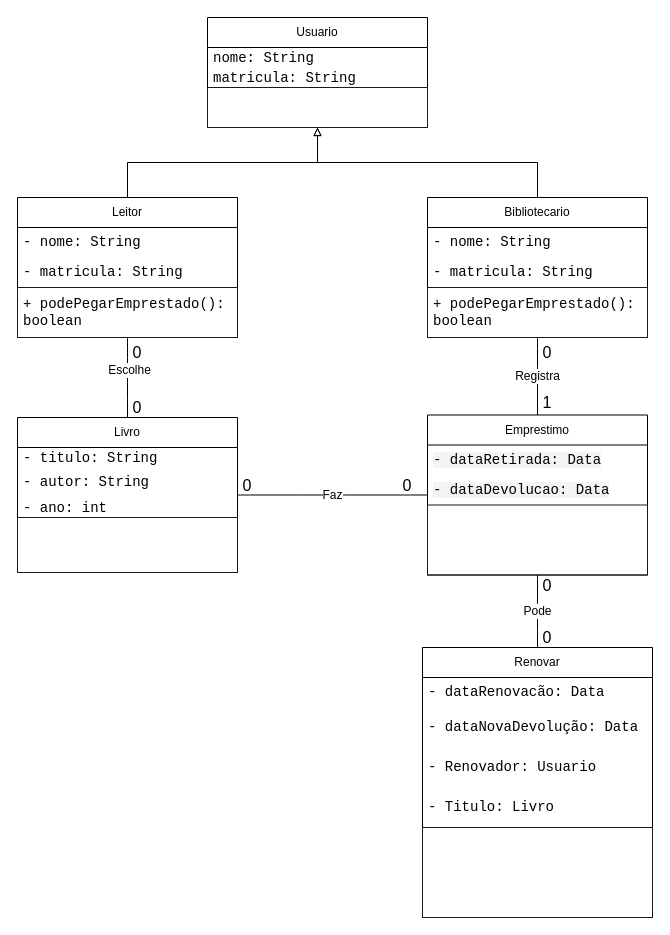
Some shapes in this 670 by 935 pixel diagram are drawn without their labels. The shapes that lost their labels are listed below. From the top down, each one's centre as x and y in pixels, then its label:
At point 317,107: "entrar (): boolean".
At point 127,544: "+ estaDisponivel() +marcarComoEmprestado()".
At point 537,539: "+ calcularDevolucao(): Data + estaAtrasado(): boolean".
At point 537,872: "+podeRenovarEmprestimo(): boolean +calcularNovaDevolucao(): Data".
